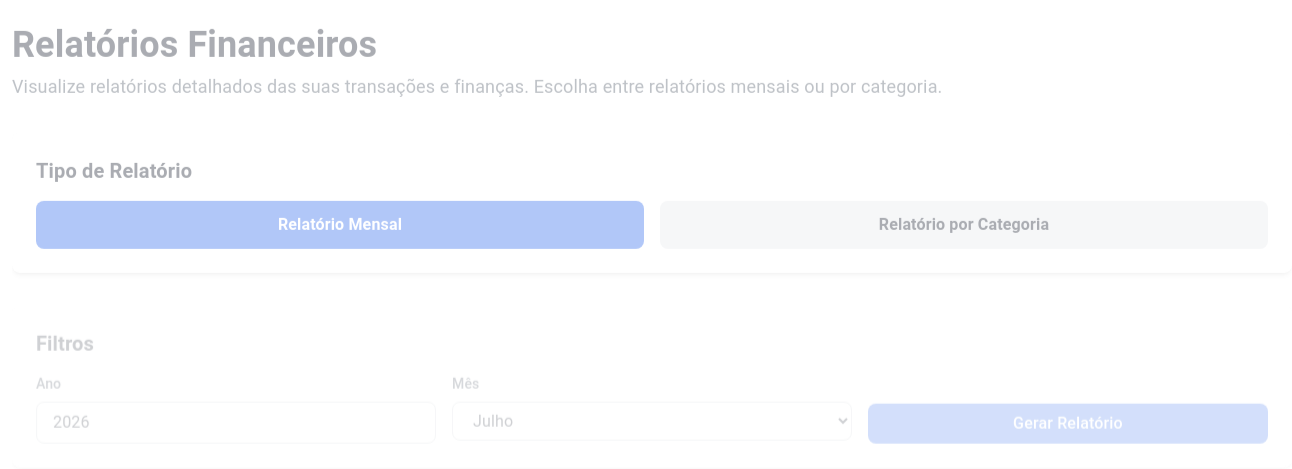
ReportsPage Component › should switch to category report when category tab is clicked
The width and height of the screenshot is (1292, 469).
What coordinates should you click on to do the following:
click the button "Relatório por Categoria"
I would click on:
 (964, 225)
Its box is left=660, top=201, right=1268, bottom=249.
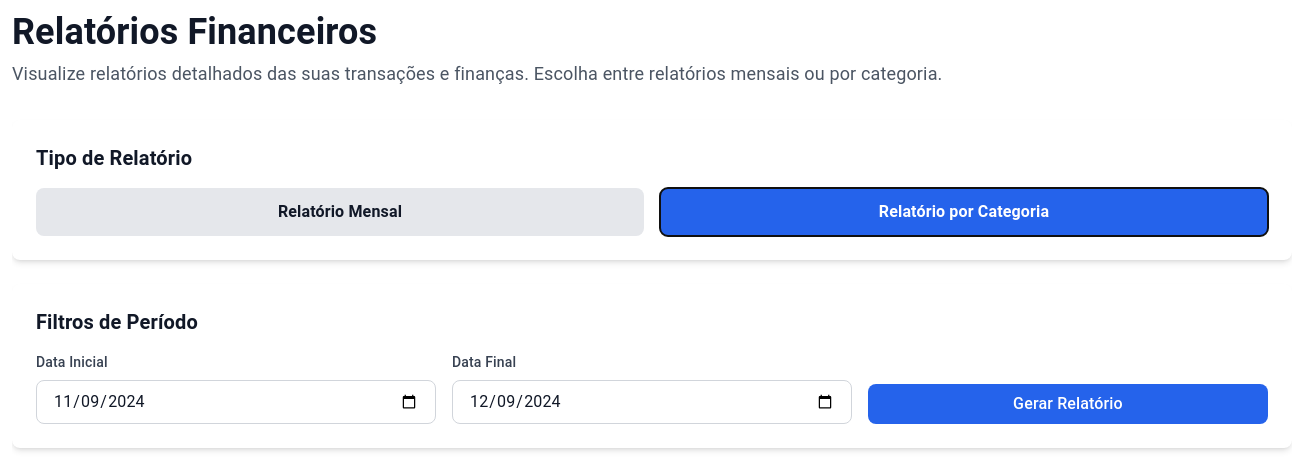
Expected: the date field labelled "Data Inicial" is shown, left=36, top=380, right=436, bottom=424
Expected: the date field labelled "Data Final" is shown, left=452, top=380, right=852, bottom=424
